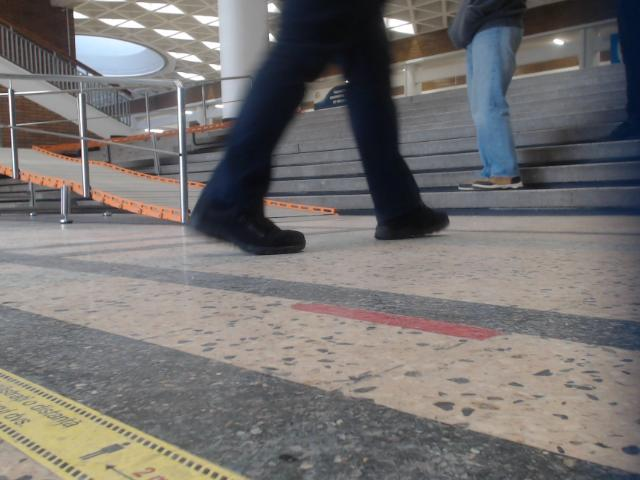rampUp: (0, 144, 185, 221), (269, 202, 333, 216)
ramps-railing: (71, 88, 118, 193), (0, 73, 183, 88), (177, 82, 187, 222), (8, 88, 17, 178), (125, 145, 171, 153)
